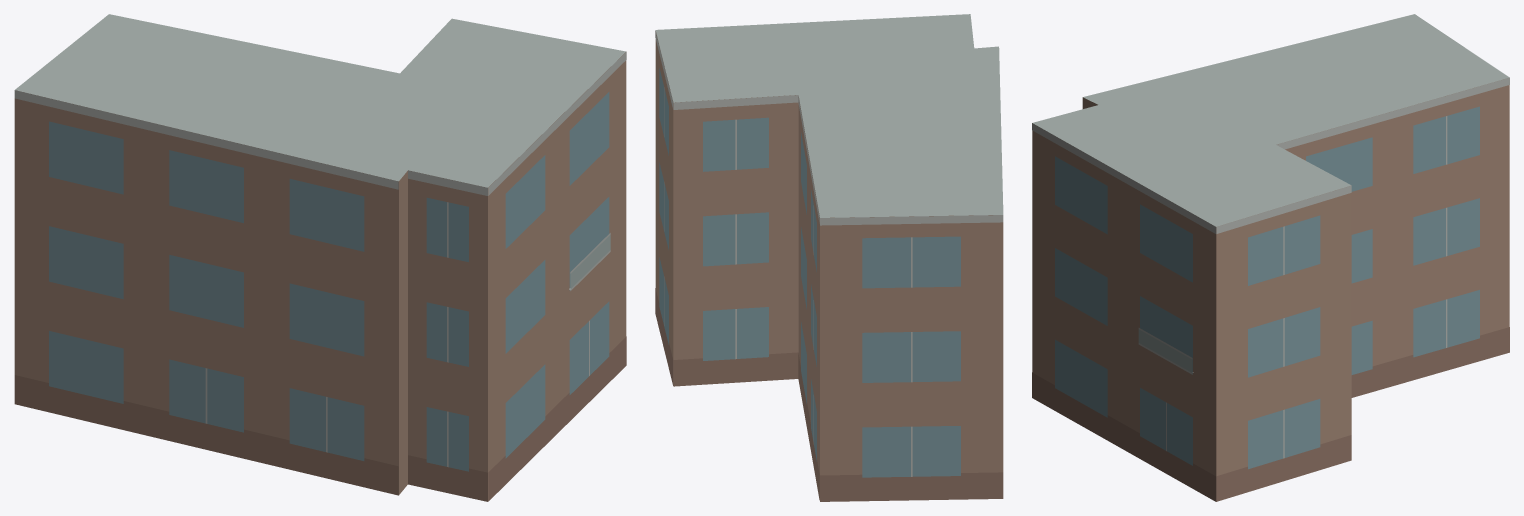
File: survey-upis-32753640.glb
The picture shows the model from 3 angles, left to right: view 1: azimuth 30°, elevation 25°; view 2: azimuth 150°, elevation 25°; view 3: azimuth 270°, elevation 25°; orthographic projection. The views are drawn at different scales.
Visible parts, largest first — view 1: survey-upis-32753640.tmp; view 2: survey-upis-32753640.tmp; view 3: survey-upis-32753640.tmp.
Boxes of the visible parts, x1,y1,x2,y2 form: survey-upis-32753640.tmp: (14,14,626,501); survey-upis-32753640.tmp: (655,14,1003,501); survey-upis-32753640.tmp: (1032,14,1509,501).
Size of the model in its own units: 15.2 by 9.15 by 14.41.
